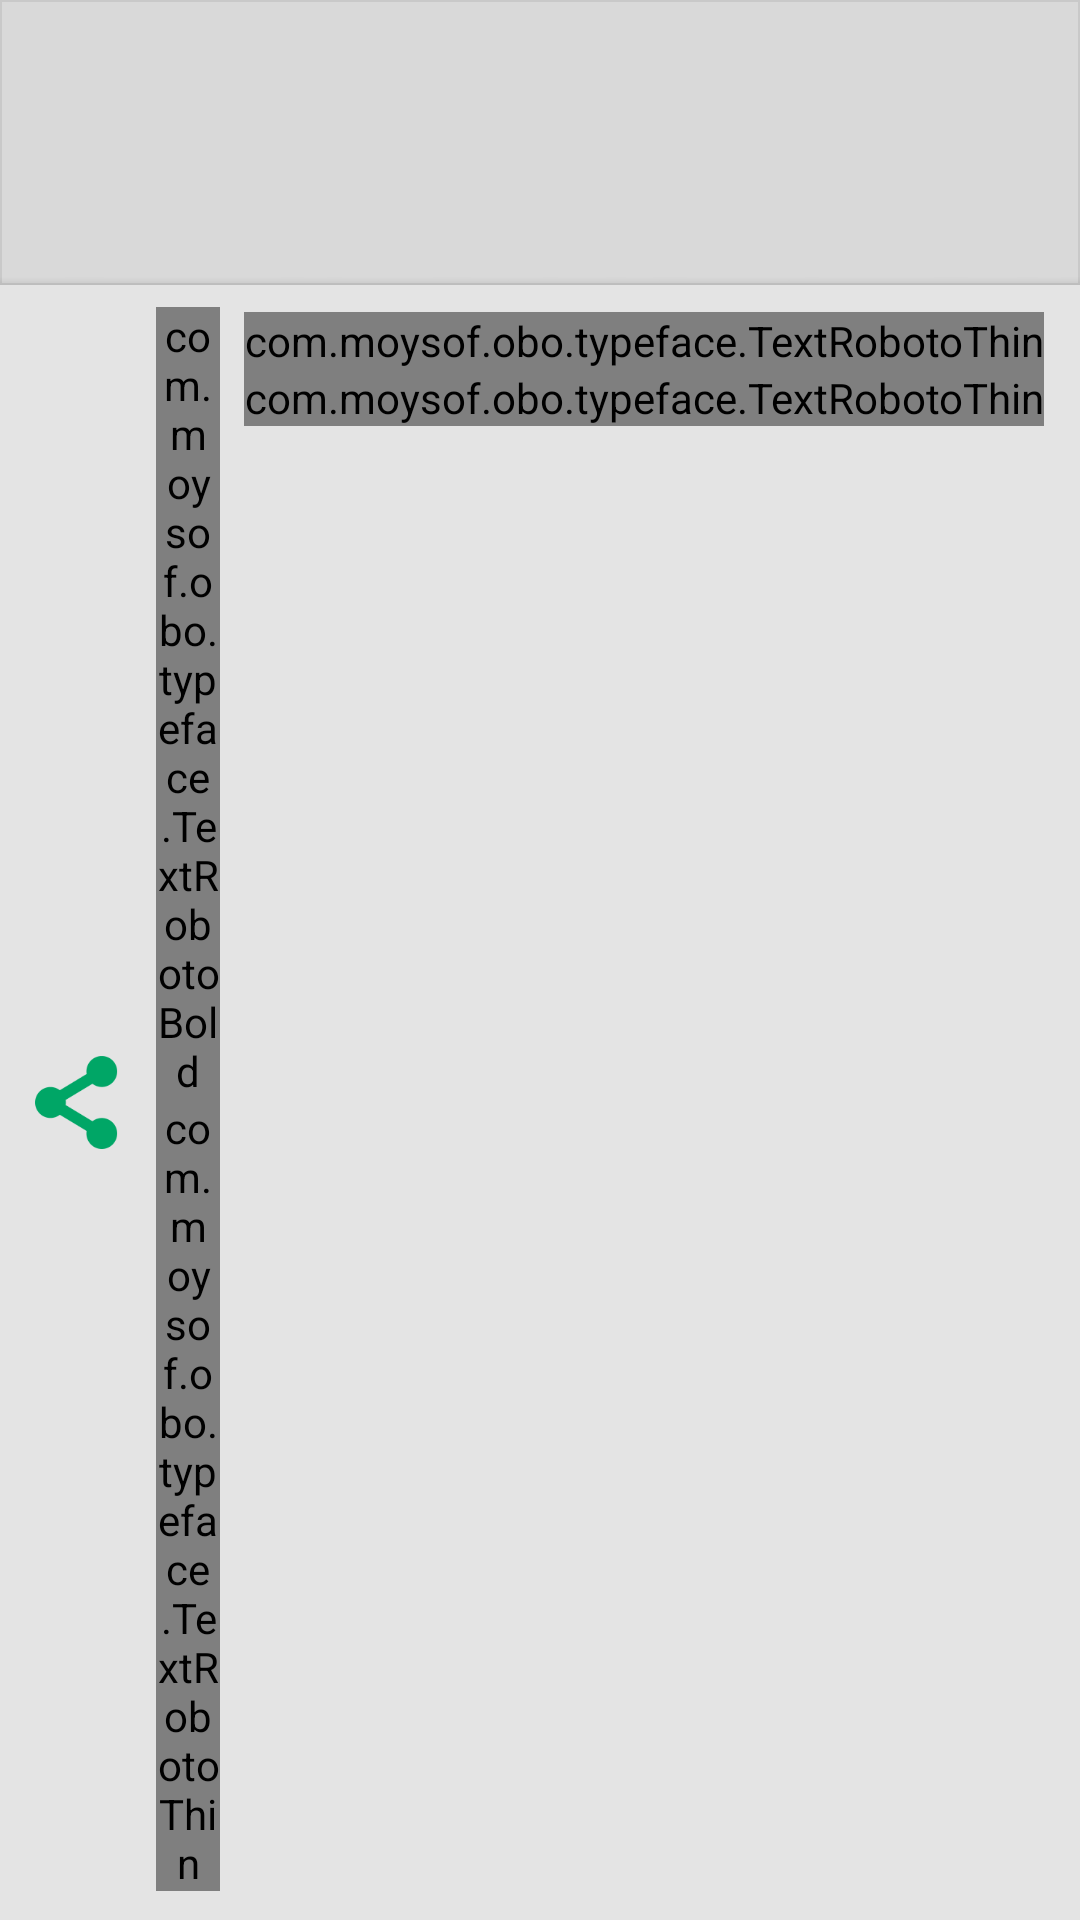

Point at icon controls on the screen. Image size 1080w x 1920h, points as (x,y).
share: (76,1102)
